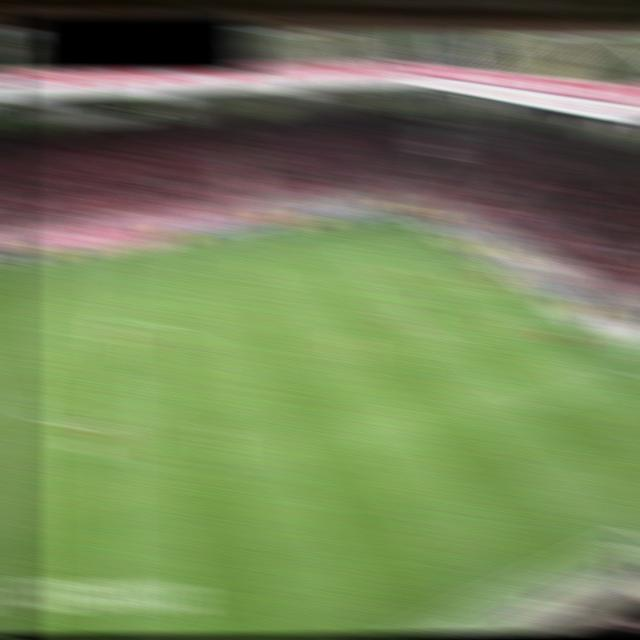bigarea_bottom_inner: (509, 401, 541, 416)
bigarea_bottom_outter: (628, 362, 640, 380)
bigarea_top_inner: (339, 245, 371, 260)
bigarea_top_outter: (429, 234, 461, 249)
bottom_arc_area_intersection: (434, 331, 466, 346)
corner: (389, 210, 421, 225)
halfcircle_bottom: (98, 416, 130, 431)
halfcircle_top: (98, 317, 130, 332)
midline_top_intersection: (97, 245, 129, 260)
smallarea_bottom_inner: (521, 321, 554, 336)
smallarea_bottom_outter: (554, 316, 586, 330)
smallarea_top_inner: (438, 264, 470, 279)
smallarea_top_outter: (470, 260, 502, 275)
top_arc_area_intersection: (376, 279, 408, 294)
